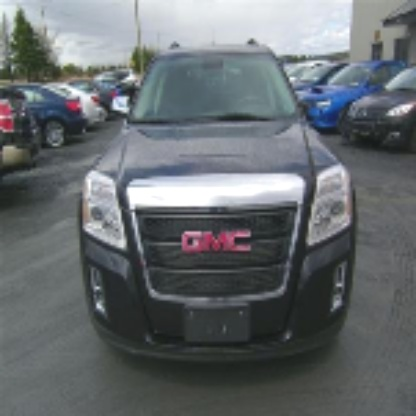Vehicle: (80, 30, 356, 332)
